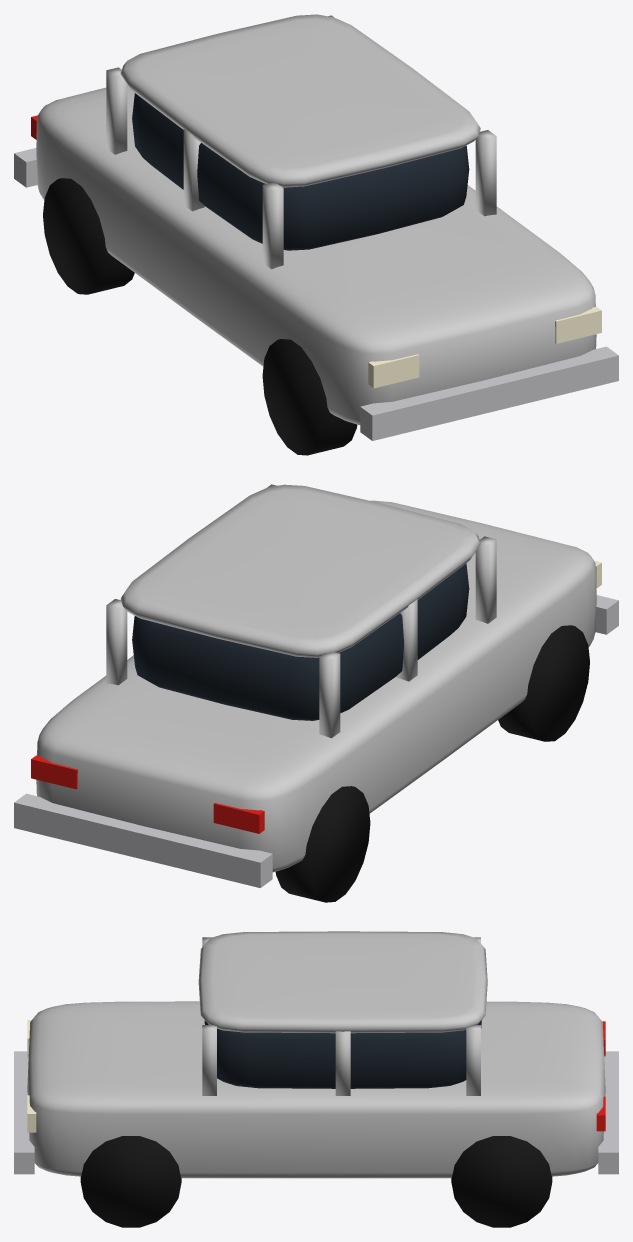
File: Car.glb
3 views of the same model, one above another, from view 1: azimuth 30°, elevation 25°; view 2: azimuth 150°, elevation 25°; view 3: azimuth 270°, elevation 25° (orthographic). The views are drawn at different scales.
Visible parts, largest first — view 1: CarBody, CarWindows, Wheels, Bumpers, Lights; view 2: CarBody, CarWindows, Wheels, Bumpers, Lights; view 3: CarBody, Wheels, CarWindows, Bumpers, Lights.
Part boxes in pixels (x1=…): CarBody: x1=36, y1=14, x2=596, y2=425; CarWindows: x1=132, y1=93, x2=469, y2=250; Wheels: x1=43, y1=178, x2=357, y2=455; Bumpers: x1=14, y1=148, x2=618, y2=440; Lights: x1=31, y1=115, x2=601, y2=388; CarBody: x1=36, y1=484, x2=596, y2=872; CarWindows: x1=132, y1=563, x2=469, y2=720; Wheels: x1=275, y1=625, x2=589, y2=902; Bumpers: x1=14, y1=595, x2=618, y2=887; Lights: x1=31, y1=560, x2=601, y2=833; CarBody: x1=27, y1=931, x2=605, y2=1178; Wheels: x1=80, y1=1136, x2=552, y2=1227; CarWindows: x1=204, y1=1020, x2=481, y2=1088; Bumpers: x1=14, y1=1051, x2=618, y2=1174; Lights: x1=27, y1=1020, x2=605, y2=1132.
Bounding box in the file's own units: 1.76 × 1.46 × 4.08.
